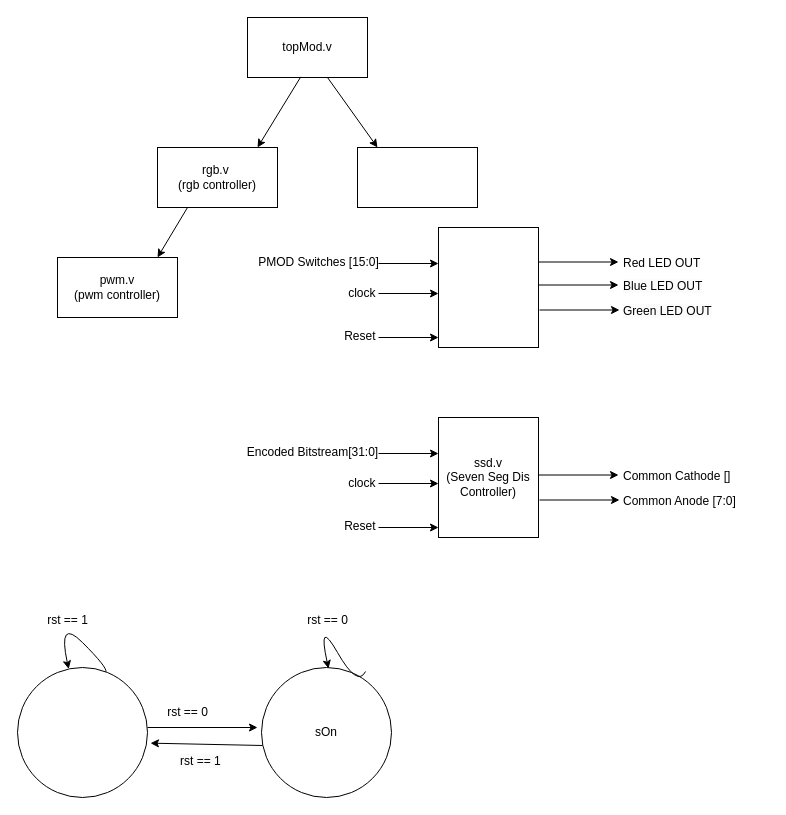
This 786x815 diagram has some shape labels left out. Here are the shapes that lost their labels. From the top down, the centre of each, then its label:
the point at 417,177: ssd.v (Seven Segment Display controller)
the point at 488,287: led.v (RGB Controller)
the point at 82,732: sIdle
